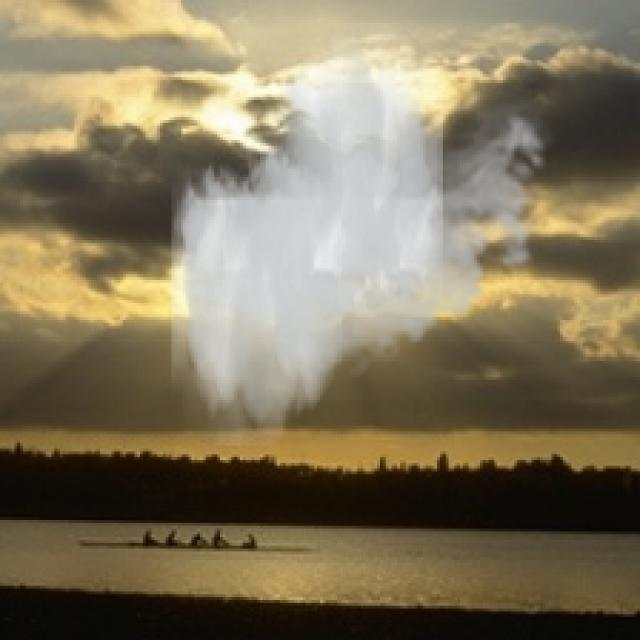smoke: (172, 23, 557, 446)
